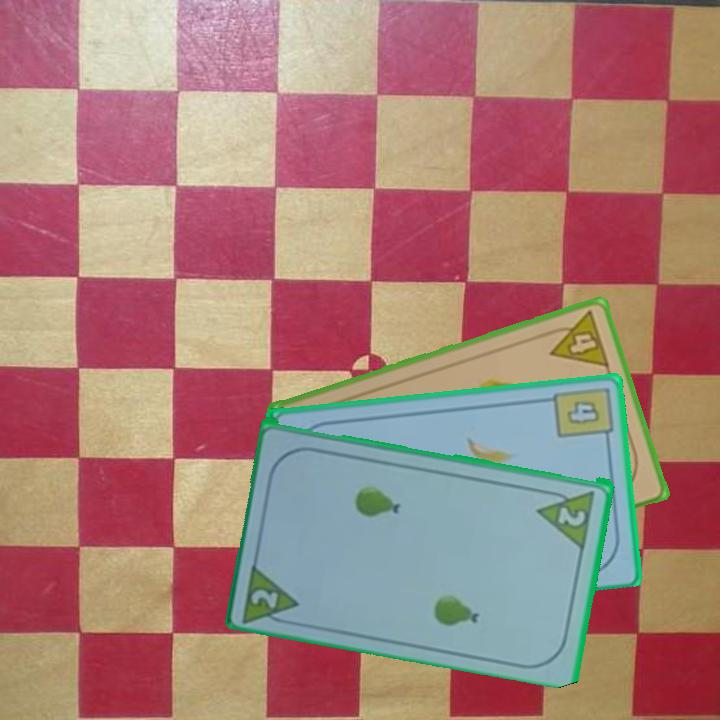2p: (239, 557, 303, 628), (554, 501, 589, 529)
4b: (550, 382, 615, 447)
4p: (540, 307, 613, 371)
